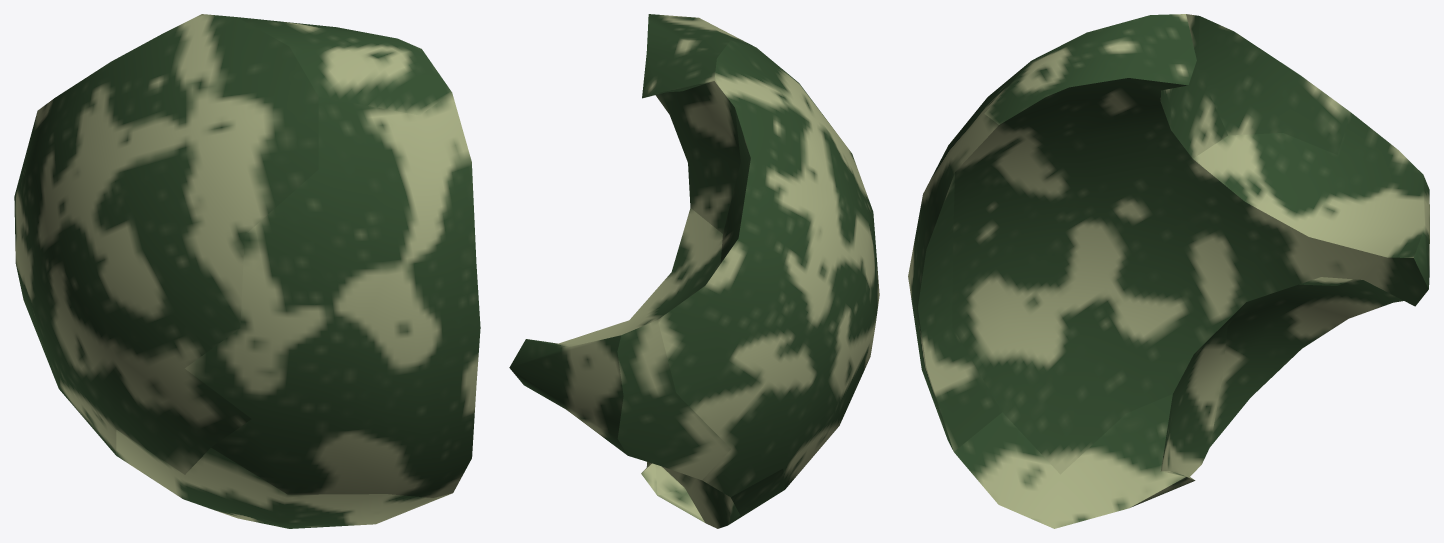
Rendered from link_body_14_composite.obj.
3 views of the same model, side by side, from view 1: azimuth 30°, elevation 25°; view 2: azimuth 150°, elevation 25°; view 3: azimuth 270°, elevation 25° (orthographic). The views are drawn at different scales.
Parts seen in each view (by area): view 1: link_body_14; view 2: link_body_14; view 3: link_body_14.
Part boxes in pixels (box(x1,y1,x2,y2)): link_body_14: box(14, 14, 480, 528); link_body_14: box(509, 14, 879, 528); link_body_14: box(908, 14, 1429, 528).
Size of the model in its own units: 7.43 by 11.98 by 11.93.
Materials: 1 (1 with a texture image).
